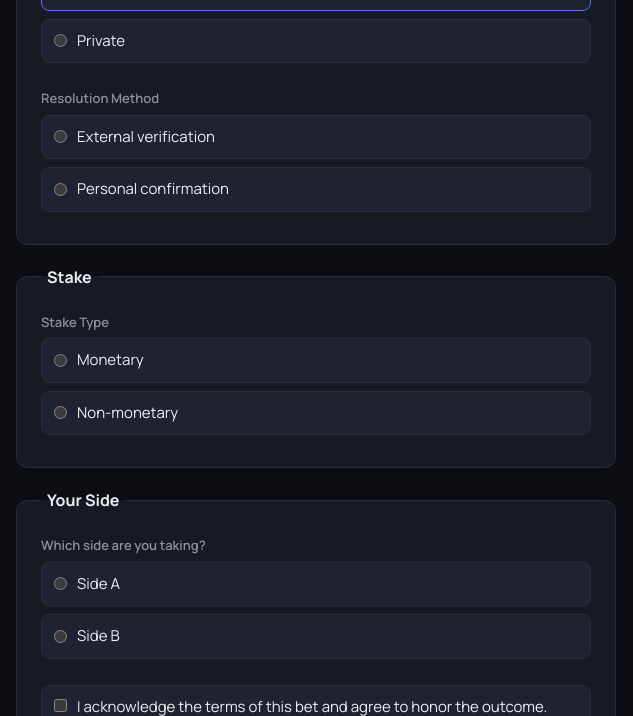
CreateBetPage form › shows amount and USD for monetary stakes, and description for non-monetary
(page scrolled)
Click the radio button labelled "Monetary".
click(60, 360)  # box top-left (54, 354), bottom-right (67, 367)
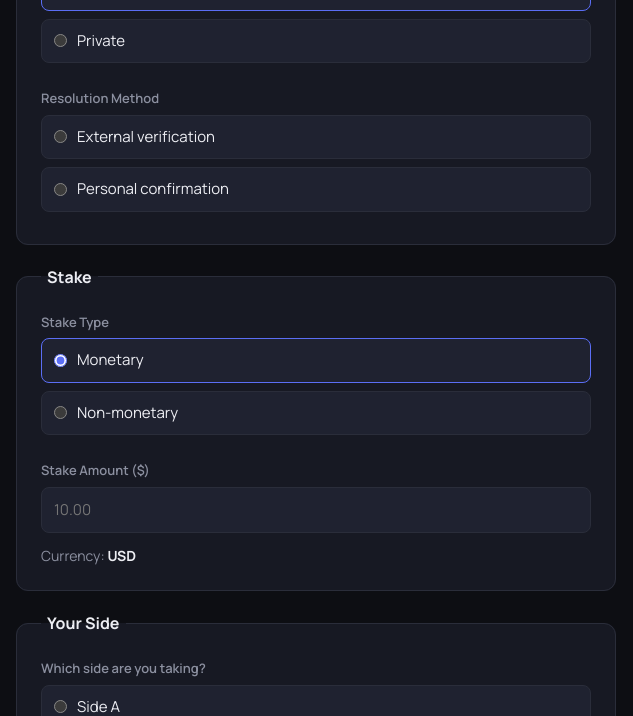
Expected: the field labelled "What's being wagered?" is not shown
Result: the field labelled "Stake Amount ($)" is shown at top-left (41, 486), bottom-right (591, 533)
Result: the text "USD" is shown at top-left (107, 546), bottom-right (136, 565)
Click the radio button labelled "Non-monetary".
click(60, 413)  # box top-left (54, 406), bottom-right (67, 419)
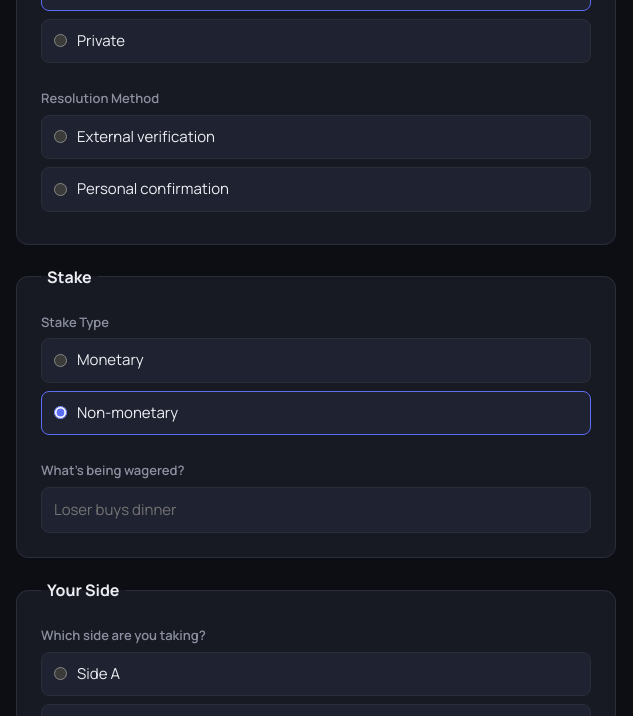
Result: the field labelled "What's being wagered?" is shown at top-left (41, 486), bottom-right (591, 533)
Result: the label labelled "Stake Amount ($)" is gone
